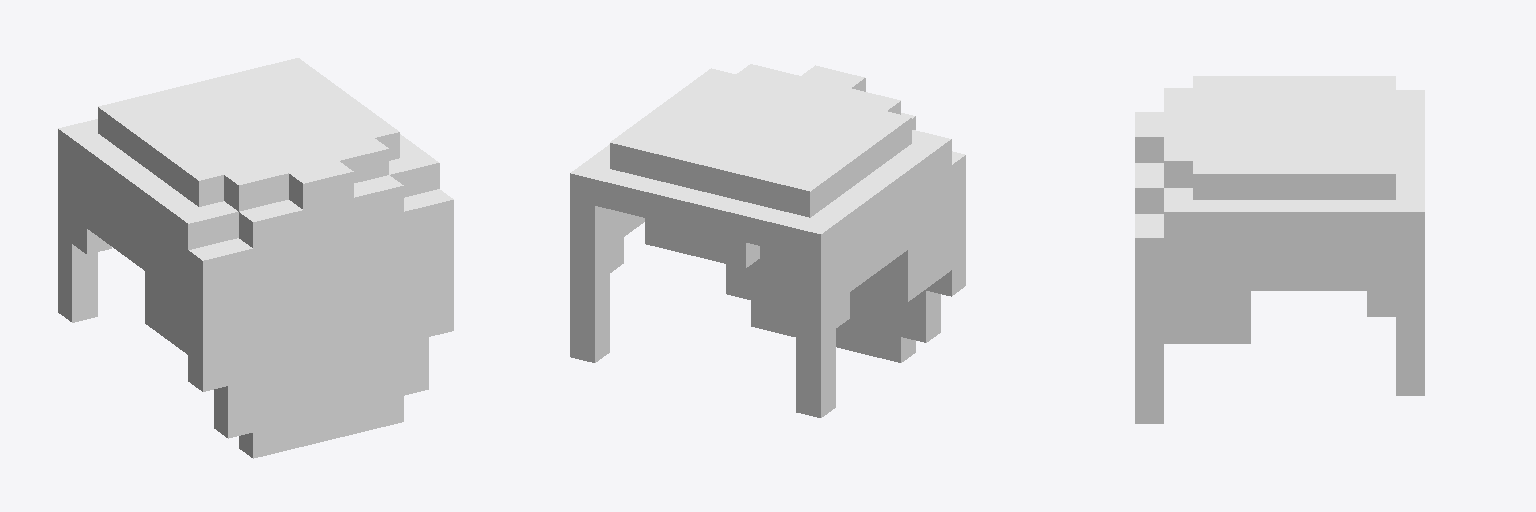
File: Hair8.obj
The picture shows the model from 3 angles: view 1: azimuth 30°, elevation 25°; view 2: azimuth 150°, elevation 25°; view 3: azimuth 270°, elevation 25°; orthographic projection.
Visible parts, largest first — view 1: object 1; view 2: object 1; view 3: object 1.
Boxes of the visible parts, x1,y1,x2,y2 form: object 1: [58, 58, 453, 458]; object 1: [570, 64, 965, 417]; object 1: [1135, 76, 1424, 423].
Bounding box in the file's own units: 1 × 1 × 1.